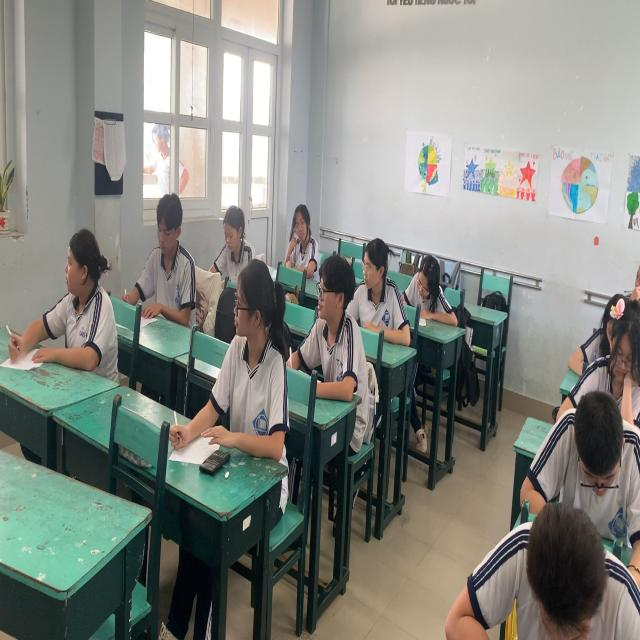cheating: (224, 264, 284, 461), (307, 254, 369, 413), (58, 222, 122, 374), (355, 229, 404, 351)
not_cheating: (556, 389, 630, 513), (144, 189, 196, 330), (410, 247, 453, 330), (603, 306, 639, 389), (286, 194, 312, 274), (220, 205, 247, 261)
